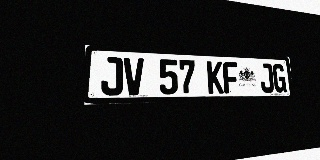5: (159, 59, 178, 95)
7: (178, 60, 196, 94)
F: (222, 62, 239, 94)
G: (272, 64, 287, 93)
J: (101, 57, 123, 96), (259, 63, 274, 93)
K: (207, 61, 224, 94)
V: (123, 57, 144, 95)
